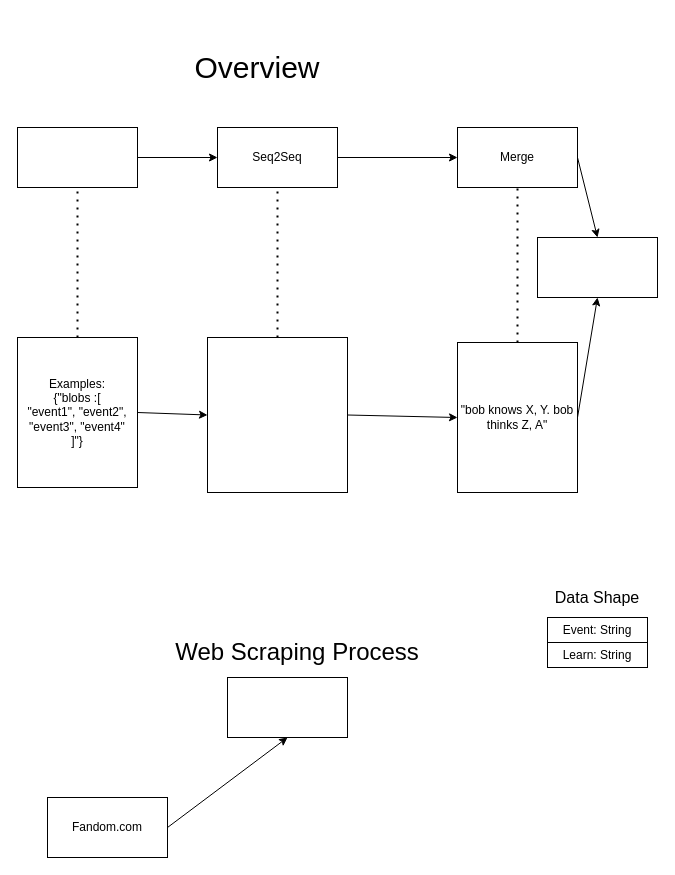
Some shapes in this 675 by 875 pixel diagram are drawn without their labels. The centre of each missing label's shape, as x and y in pixels:
Input (JSON]: (x=77, y=157)
Output: (x=597, y=267)
{"blobs":[ "bob knows X", "bob knows Y", "bob thinks Z", "bob thinks A"]}]: (x=277, y=414)
~ 100K data: (x=287, y=707)
